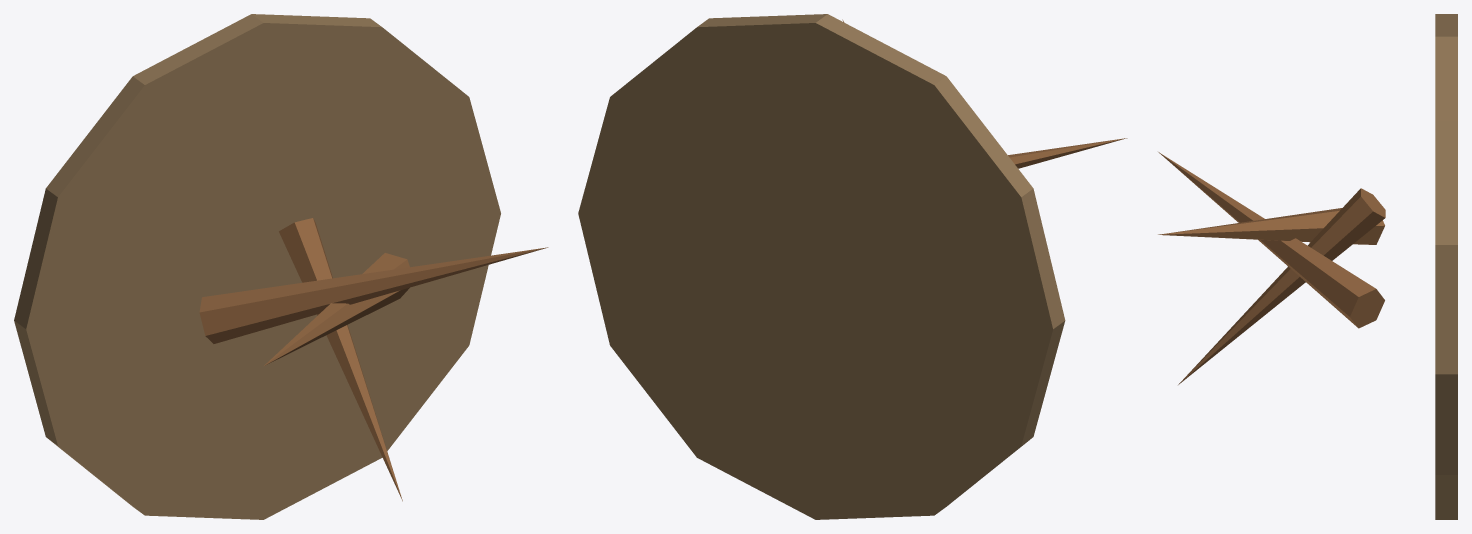
Rendered from root_snare_patch.glb.
The picture shows the model from 3 angles, left to right: view 1: azimuth 30°, elevation 25°; view 2: azimuth 150°, elevation 25°; view 3: azimuth 270°, elevation 25°; orthographic projection. The views are drawn at different scales.
Parts seen in each view (by area): view 1: dirt, rootA, rootC, rootB; view 2: dirt, rootB; view 3: dirt, rootB, rootC, rootA.
Boxes of the visible parts, x1=… form: dirt: x1=14, y1=14, x2=500, y2=519; rootA: x1=199, y1=247, x2=548, y2=343; rootC: x1=279, y1=218, x2=402, y2=501; rootB: x1=264, y1=253, x2=409, y2=365; dirt: x1=578, y1=14, x2=1065, y2=519; rootB: x1=1008, y1=138, x2=1127, y2=168; dirt: x1=1435, y1=14, x2=1457, y2=519; rootB: x1=1158, y1=152, x2=1384, y2=328; rootC: x1=1178, y1=188, x2=1385, y2=384; rootA: x1=1158, y1=208, x2=1384, y2=244.
Bounding box in the file's own units: 1.8 × 1.8 × 1.07.
